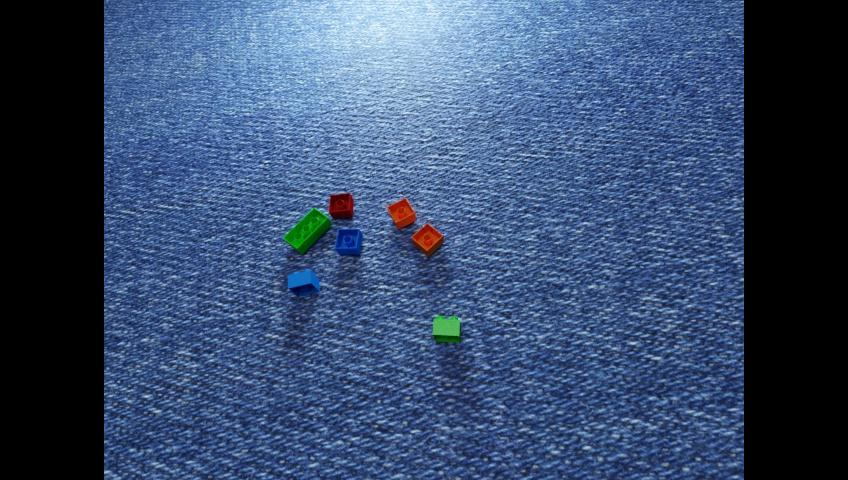2x2_blue: (287, 268, 318, 296), (334, 228, 362, 254)
2x2_green: (432, 315, 459, 342)
2x2_orange: (412, 223, 444, 257), (386, 197, 416, 228)
2x2_red: (328, 192, 352, 218)
4x2_green: (283, 207, 331, 254)
